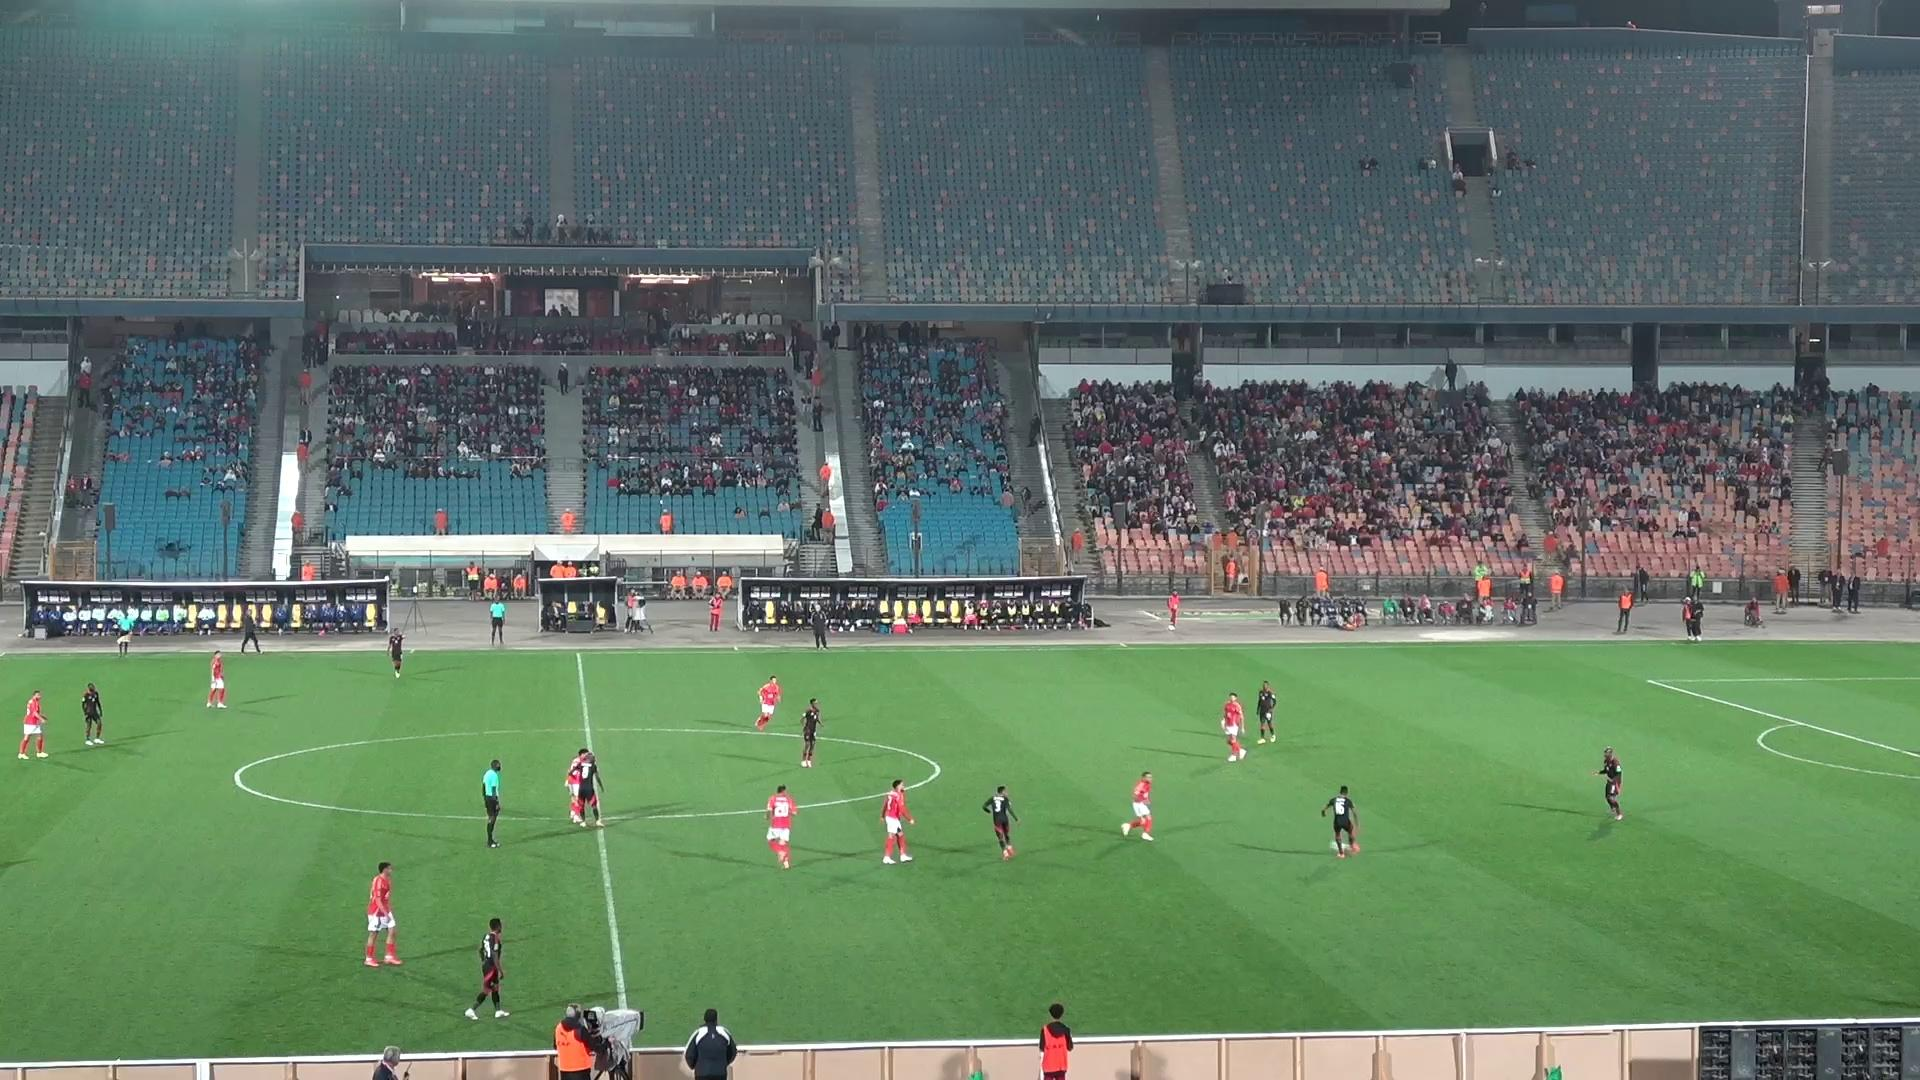Ball: (1329, 825, 1353, 857)
Refree: (481, 760, 502, 848), (488, 597, 509, 647), (116, 609, 137, 655)
Team1: (363, 862, 401, 967), (880, 781, 914, 864), (765, 785, 798, 868), (1121, 771, 1151, 841), (18, 690, 47, 758), (1220, 694, 1246, 761), (753, 676, 782, 731), (204, 651, 228, 708)
Team2: (464, 918, 509, 1021), (564, 748, 603, 824), (981, 785, 1017, 860), (1323, 786, 1360, 857), (1596, 746, 1622, 820), (799, 698, 822, 767), (80, 683, 104, 744), (1255, 680, 1276, 742), (386, 628, 405, 676)
